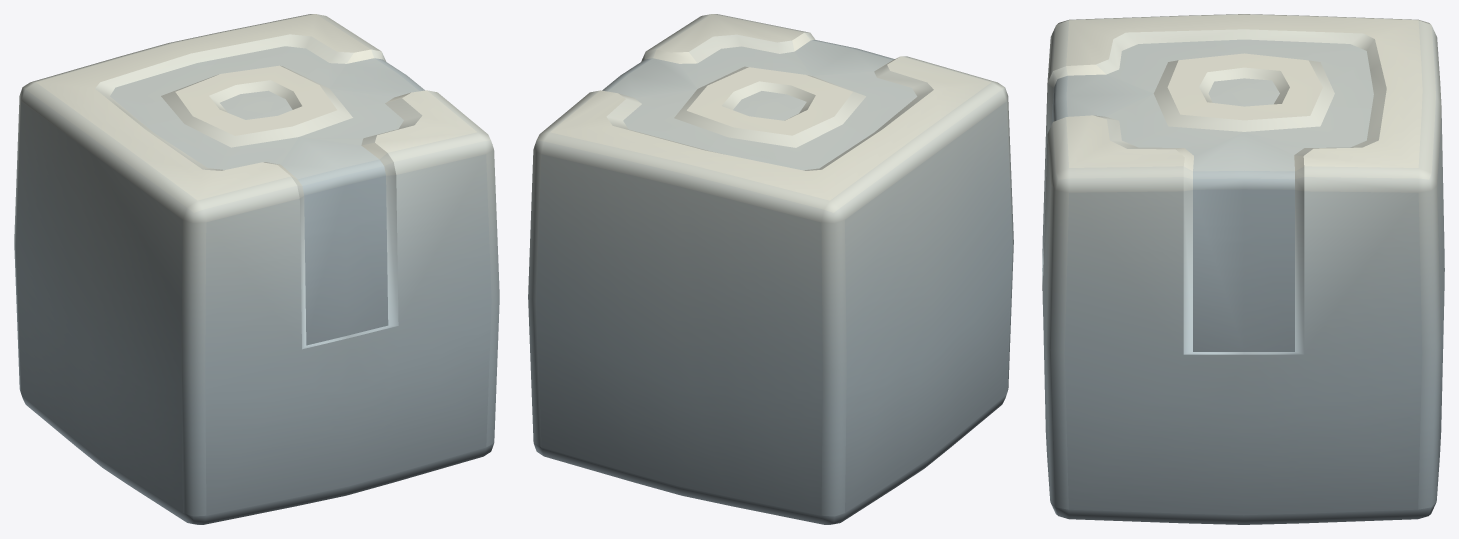
The model's file is Quartz_Free2_L.fbx.
3 views of the same model, side by side, from view 1: azimuth 30°, elevation 25°; view 2: azimuth 150°, elevation 25°; view 3: azimuth 270°, elevation 25° (orthographic). The views are drawn at different scales.
Visible parts, largest first — view 1: Quartz_Free2_L_LOD0; view 2: Quartz_Free2_L_LOD0; view 3: Quartz_Free2_L_LOD0.
Part boxes in pixels (bbox=[...]): Quartz_Free2_L_LOD0: bbox=[14, 14, 499, 524]; Quartz_Free2_L_LOD0: bbox=[528, 14, 1013, 524]; Quartz_Free2_L_LOD0: bbox=[1042, 14, 1444, 524].
Size of what is drawn, in the model's own units: 1.09 by 1.09 by 1.09.
